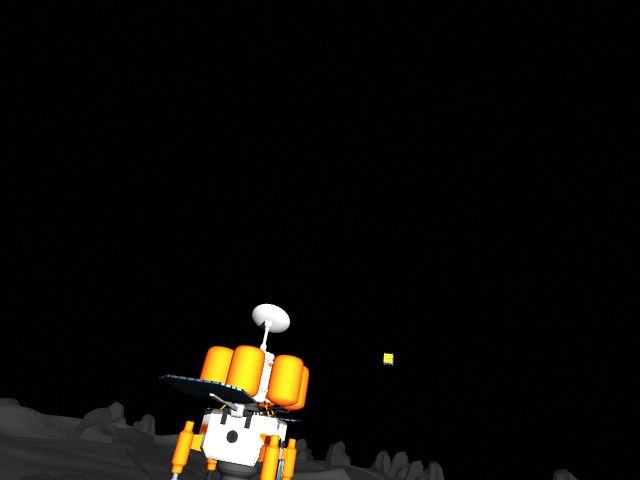cubesat: (382, 352, 395, 366)
